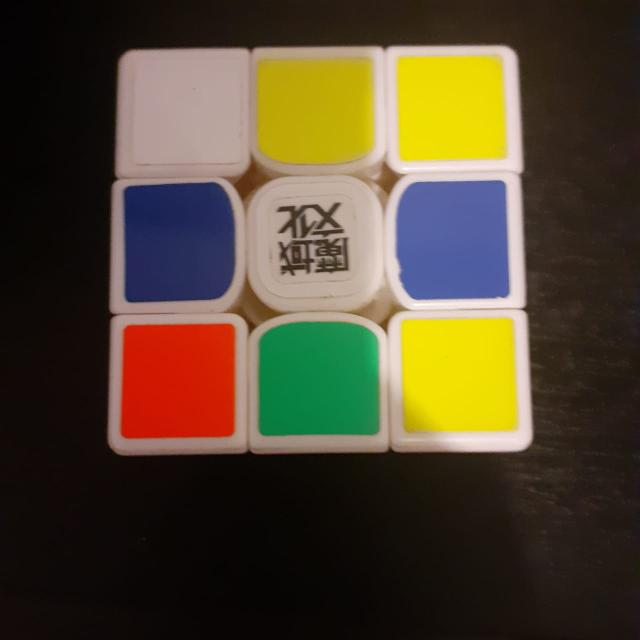Blue: (116, 184, 234, 308), (396, 180, 508, 300)
Green: (251, 315, 383, 447)
Orange: (117, 320, 239, 442)
White: (122, 52, 244, 178), (252, 188, 374, 304)
Yellow: (398, 315, 520, 443), (260, 46, 374, 162), (397, 53, 508, 169)
